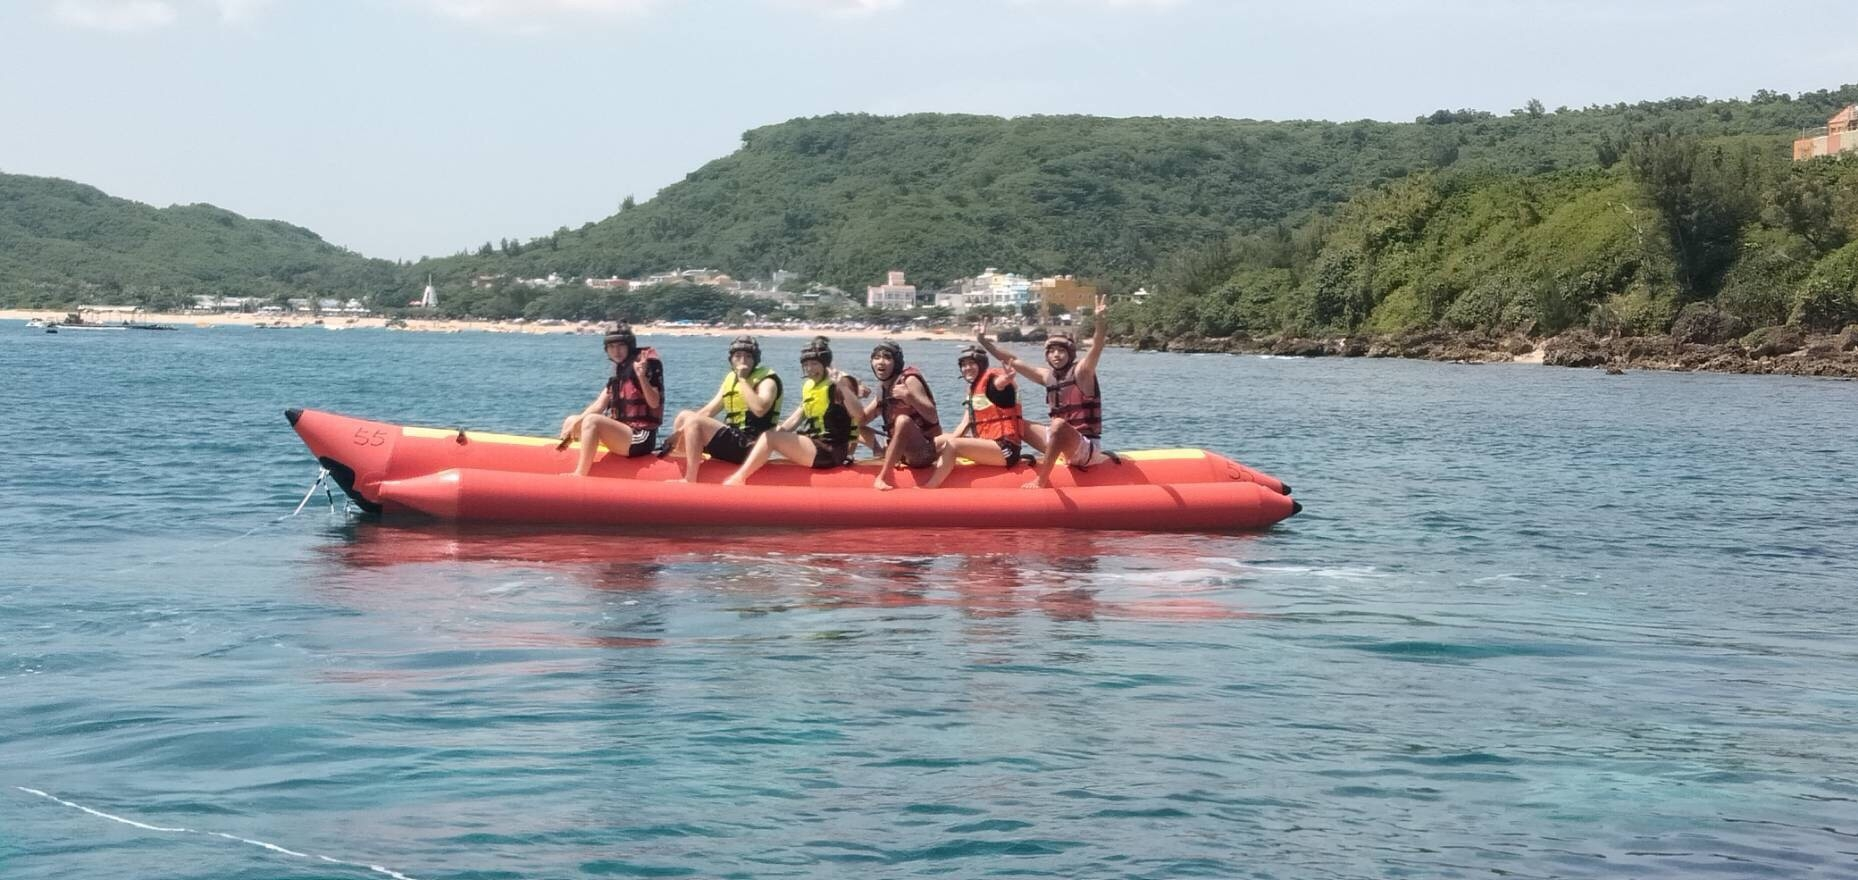people: (1027, 330, 1122, 470), (772, 346, 859, 483), (580, 325, 661, 467), (867, 338, 946, 483), (701, 333, 780, 475), (951, 341, 1027, 478)
